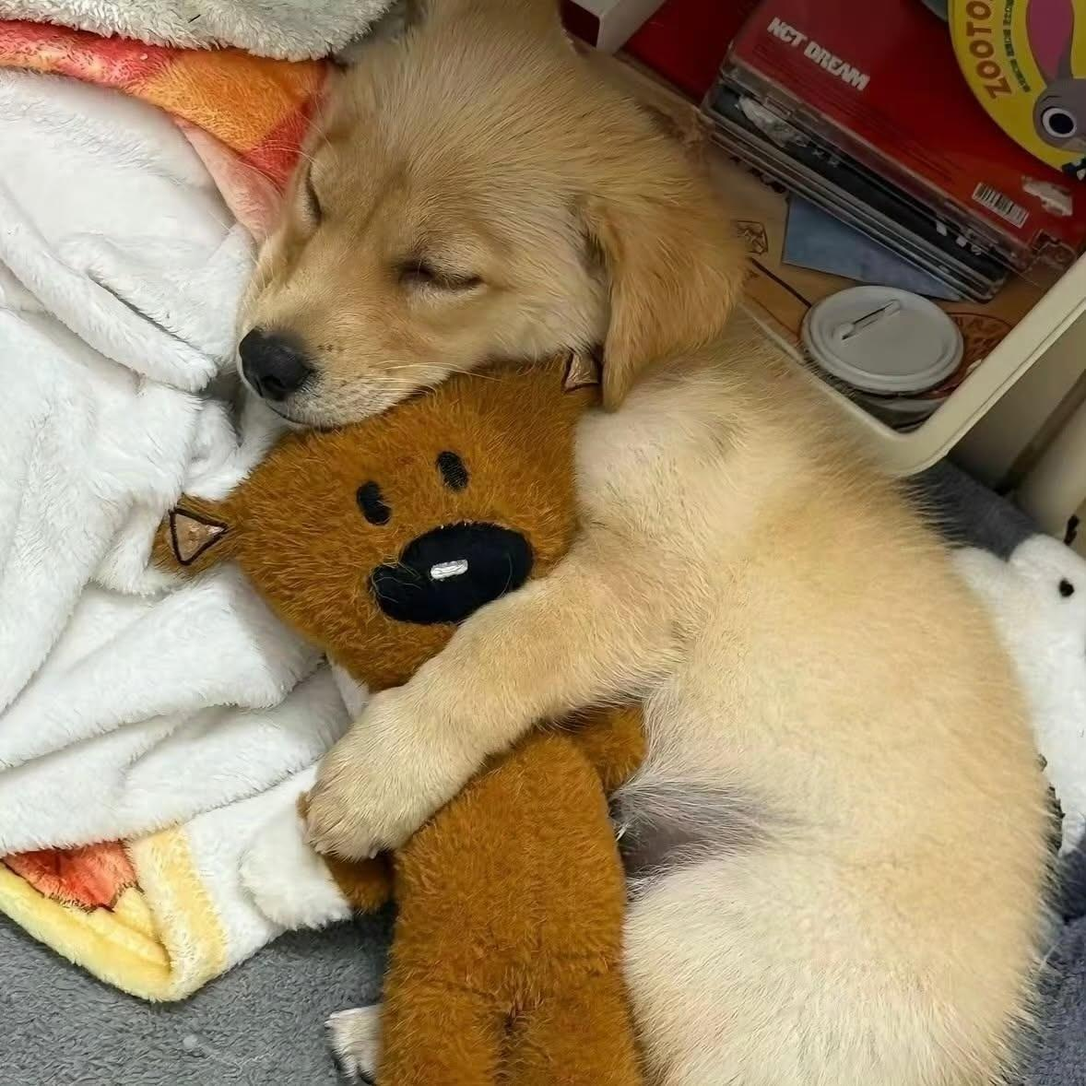non-dog: (147, 342, 653, 1086)
puppy-dog: (231, 0, 1061, 1086)
